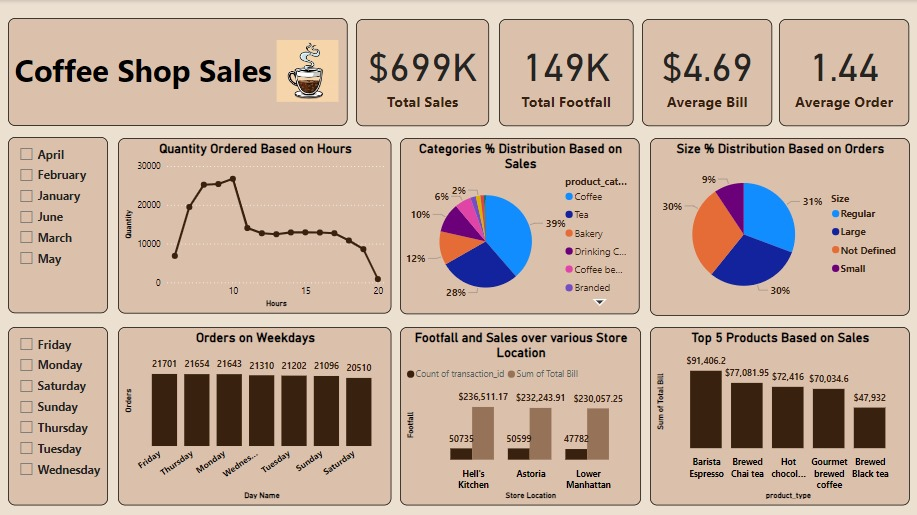

What the dashboard file says about the page in this screenshot:
{"tool":"powerbi","page":{"name":"Page 1","canvas":[1280,720],"ordinal":0},"visuals":[{"type":"lineChart","title":"Quantity Ordered Based on Hours","fields":{"Category":["Transactions.Hour"],"Y":["Sum(Transactions.transaction_qty)"]},"box":[166.6,192.4,380.2,243.9],"z":0},{"type":"columnChart","title":"Orders on Weekdays","fields":{"Category":["Transactions.Day Name"],"Y":["CountNonNull(Transactions.transaction_id)"]},"box":[166.6,454.4,380.2,248.4],"z":1000},{"type":"slicer","fields":{"Values":["Transactions.Month Name"]},"box":[13.6,190.9,139.4,245.4],"z":2000},{"type":"pieChart","title":"Categories % Distribution Based on Sales","fields":{"Category":["Transactions.product_category"],"Y":["Sum(Transactions.Total Bill)"]},"box":[559,192.4,333.3,245.4],"z":3000},{"type":"columnChart","title":"Top 5 Products Based on Sales","fields":{"Category":["Transactions.product_type"],"Y":["Sum(Transactions.Total Bill)"]},"box":[905.8,454.4,360.5,248.4],"z":4000},{"type":"clusteredColumnChart","title":"Footfall and Sales over various Store Location","fields":{"Category":["Transactions.store_location"],"Y":["CountNonNull(Transactions.transaction_id)","Sum(Transactions.Total Bill)"]},"box":[559,454.4,334.8,248.4],"z":5000},{"type":"pieChart","title":"Size % Distribution Based on Orders","fields":{"Category":["Transactions.Size"],"Y":["CountNonNull(Transactions.transaction_id)"]},"box":[905.8,192.4,360.5,246.9],"z":6000},{"type":"slicer","title":"Orders on Weekdays","fields":{"Values":["Transactions.Day Name"]},"box":[13.6,454.4,139.4,248.4],"z":7000},{"type":"card","fields":{"Values":["Transactions.Average Order per Person"]},"box":[1085.8,26.5,181,148.6],"z":8000},{"type":"card","fields":{"Values":["Transactions.Average Bill"]},"box":[894.5,26.5,181,148.6],"z":9000},{"type":"card","fields":{"Values":["Transactions.Total Footfall"]},"box":[695.9,26.5,186.9,148.6],"z":10000},{"type":"card","fields":{"Values":["Transactions.Total Sales"]},"box":[497.3,26.5,185.4,148.6],"z":11000},{"type":"textbox","box":[13.2,25,472.3,150.1],"z":12000},{"type":"image","box":[392,43.1,94.5,94.5],"z":13000}]}

Visuals, with their boxes in screenshot pixels (x1, y1, x2, y2), scaled from the page's 1280x720 canvas onto the 917x515 screenshot:
"Quantity Ordered Based on Hours" lineChart: (x1=119, y1=138, x2=392, y2=312)
"Orders on Weekdays" columnChart: (x1=119, y1=325, x2=392, y2=503)
slicer - Transactions.Month Name: (x1=10, y1=137, x2=110, y2=312)
"Categories % Distribution Based on Sales" pieChart: (x1=400, y1=138, x2=639, y2=313)
"Top 5 Products Based on Sales" columnChart: (x1=649, y1=325, x2=907, y2=503)
"Footfall and Sales over various Store Location" clusteredColumnChart: (x1=400, y1=325, x2=640, y2=503)
"Size % Distribution Based on Orders" pieChart: (x1=649, y1=138, x2=907, y2=314)
"Orders on Weekdays" slicer: (x1=10, y1=325, x2=110, y2=503)
card - Transactions.Average Order per Person: (x1=778, y1=19, x2=908, y2=125)
card - Transactions.Average Bill: (x1=641, y1=19, x2=770, y2=125)
card - Transactions.Total Footfall: (x1=499, y1=19, x2=632, y2=125)
card - Transactions.Total Sales: (x1=356, y1=19, x2=489, y2=125)
textbox: (x1=9, y1=18, x2=348, y2=125)
image: (x1=281, y1=31, x2=349, y2=98)
